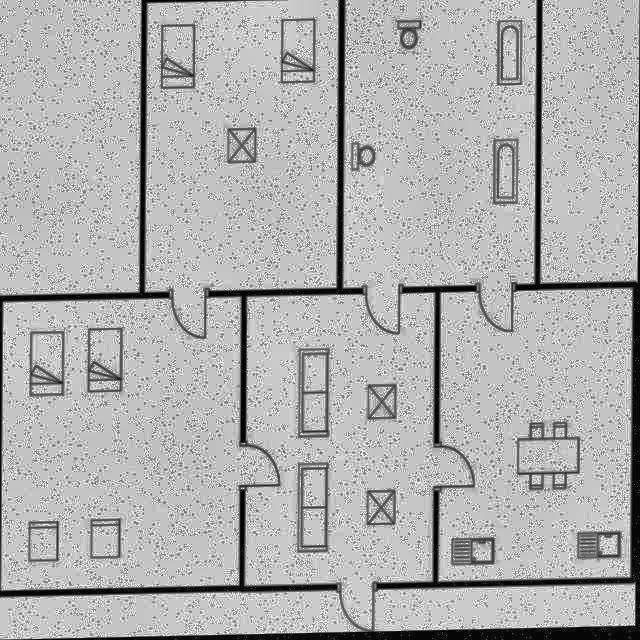room: (1, 296, 242, 592), (439, 290, 634, 585), (245, 294, 436, 589)
